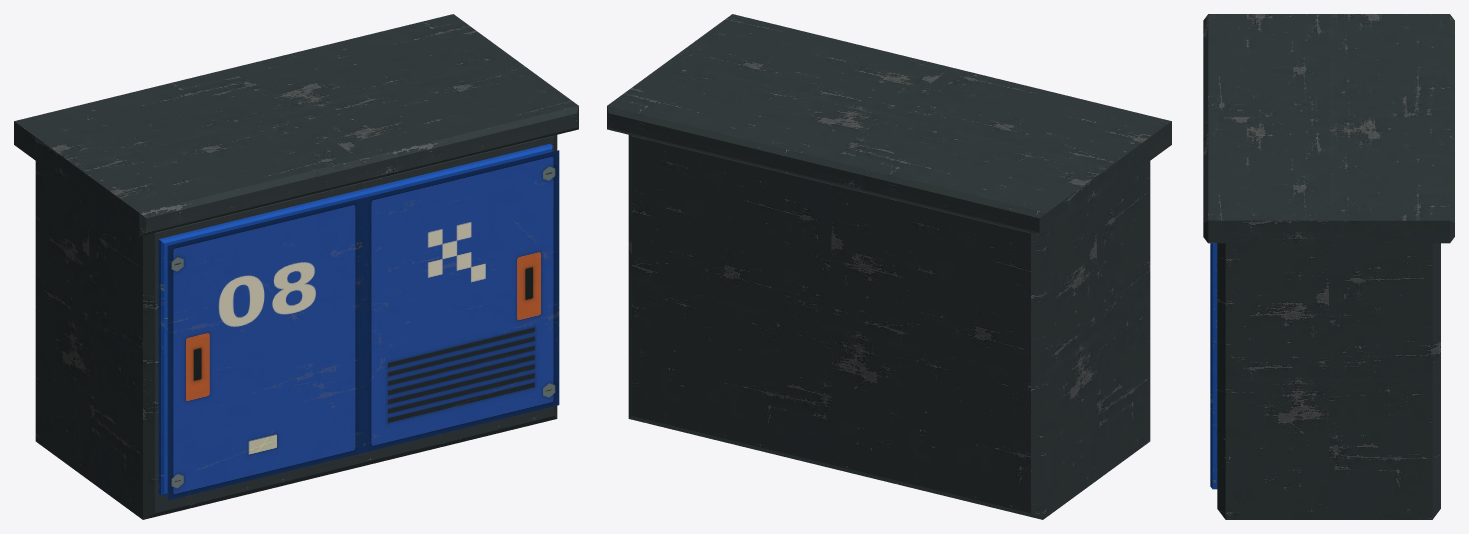
Rendered from factory-a08-proof-service-cabinet-v1.glb.
3 views of the same model, side by side, from view 1: azimuth 30°, elevation 25°; view 2: azimuth 150°, elevation 25°; view 3: azimuth 270°, elevation 25° (orthographic). The views are drawn at different scales.
Parts seen in each view (by area): view 1: prop:charcoal, prop:cabinet-detail, prop:blue; view 2: prop:charcoal; view 3: prop:charcoal, prop:blue.
Boxes of the visible parts, left/top/right/bottom form: prop:charcoal: left=14, top=14, right=578, bottom=519; prop:cabinet-detail: left=167, top=150, right=559, bottom=500; prop:blue: left=158, top=143, right=552, bottom=495; prop:charcoal: left=607, top=14, right=1171, bottom=519; prop:charcoal: left=1203, top=14, right=1454, bottom=519; prop:blue: left=1210, top=243, right=1217, bottom=489.
Size of the model in its own units: 3.5 by 2.43 by 1.82.
Materials: 4 (3 with a texture image).
